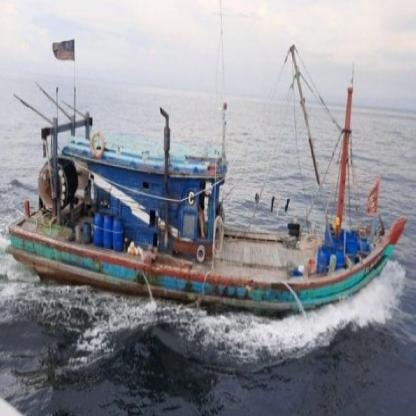fishing boat: (5, 155, 407, 310)
